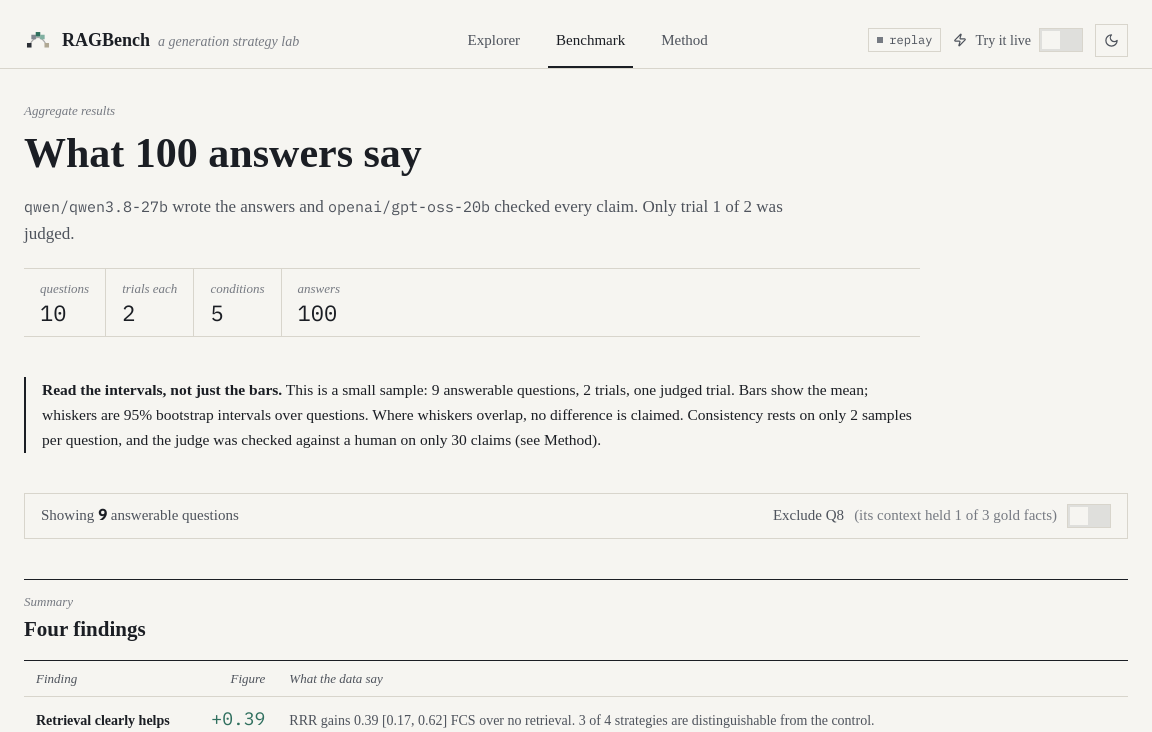
it: benchmark and method tabs › the Q8 sensitivity switch changes the sample shown
Click the switch named "Exclude Q8" at (1089, 516), box [1067, 504, 1111, 528]
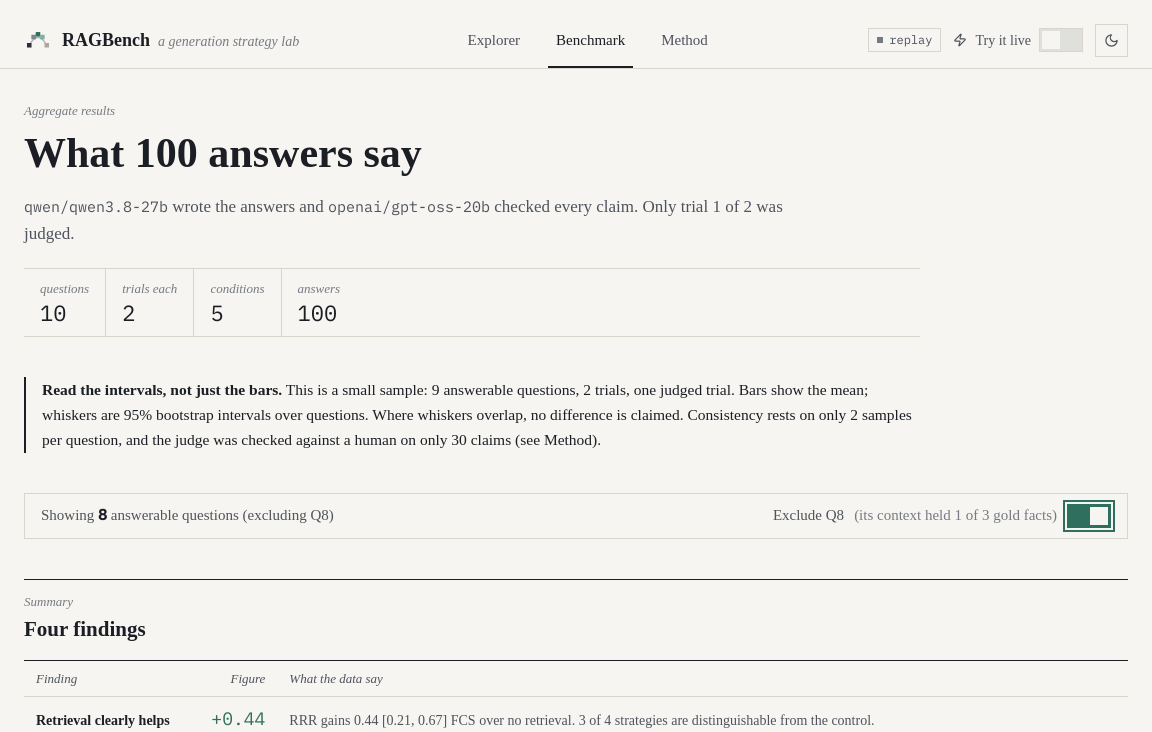
Expected: the text "Showing 8 answerable questions (excluding Q8)" is shown, [41, 504, 334, 527]
